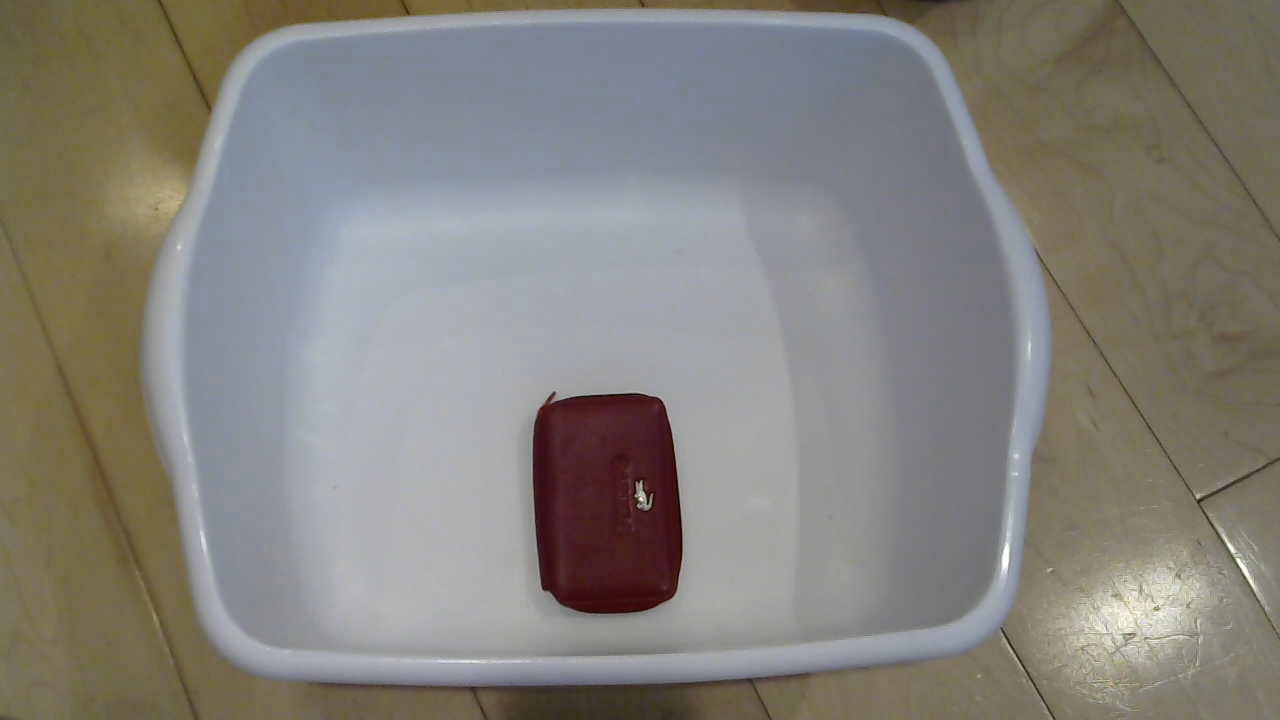wallet: (504, 394, 692, 625)
